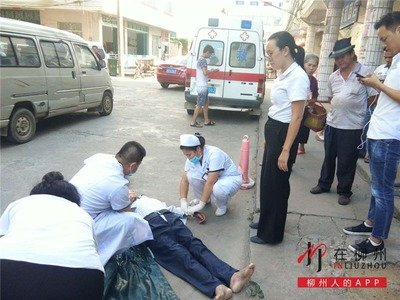fall: (124, 186, 264, 297)
